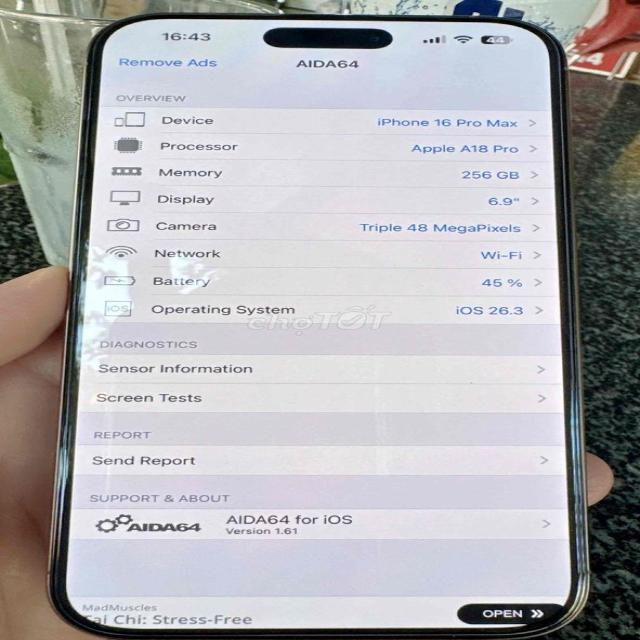gen_16: (51, 13, 585, 639)
